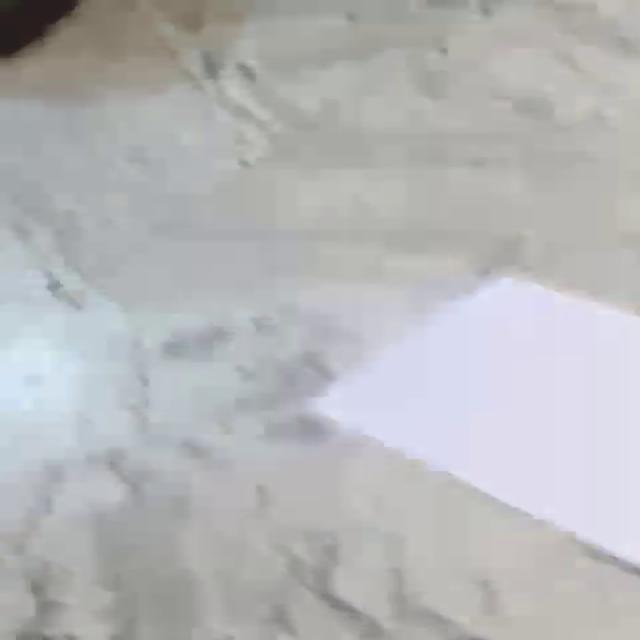road: (315, 275, 640, 569)
